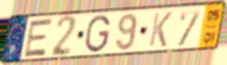2: (49, 13, 78, 60)
7: (177, 8, 203, 48)
9: (113, 12, 139, 52)
E: (22, 17, 55, 59)
G: (83, 14, 112, 54)
K: (147, 11, 174, 49)
